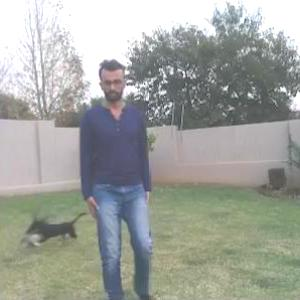follow: (83, 61, 152, 298)
